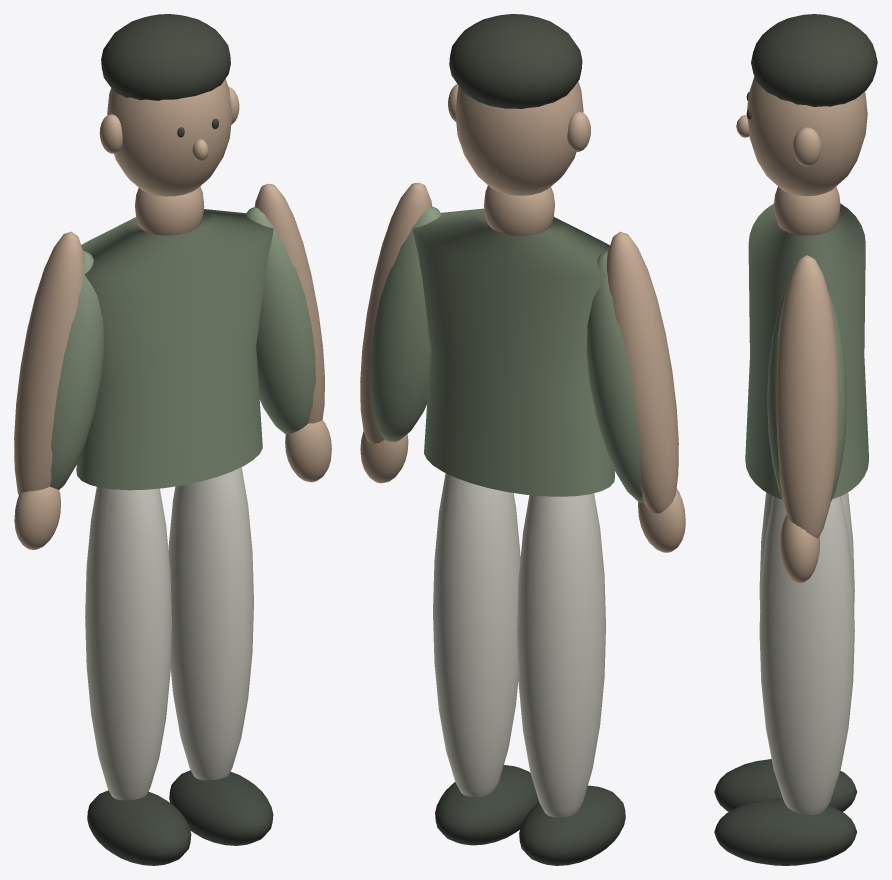
The model's file is look-2.glb.
3 views of the same model, side by side, from view 1: azimuth 30°, elevation 25°; view 2: azimuth 150°, elevation 25°; view 3: azimuth 270°, elevation 25° (orthographic). The views are drawn at different scales.
Size of the model in its own units: 0.7643 by 1.89 by 0.343.
